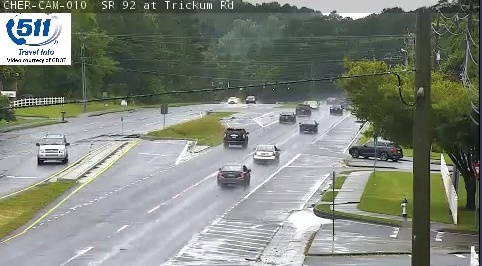car: (218, 164, 250, 185), (253, 145, 278, 163), (223, 128, 247, 146), (299, 119, 317, 133), (295, 103, 310, 116), (279, 112, 296, 123)
